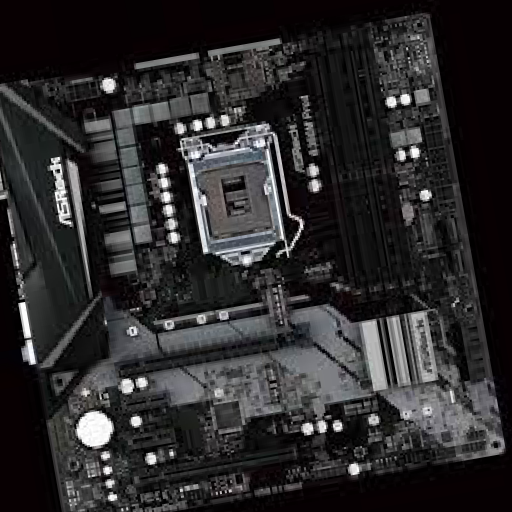CPU: (181, 121, 288, 268)
GPU: (118, 322, 315, 382), (132, 433, 334, 491)
MOTHERBOARD: (1, 15, 504, 510)
RAM: (304, 20, 415, 303)
SSD: (267, 285, 290, 335), (259, 365, 284, 407)
